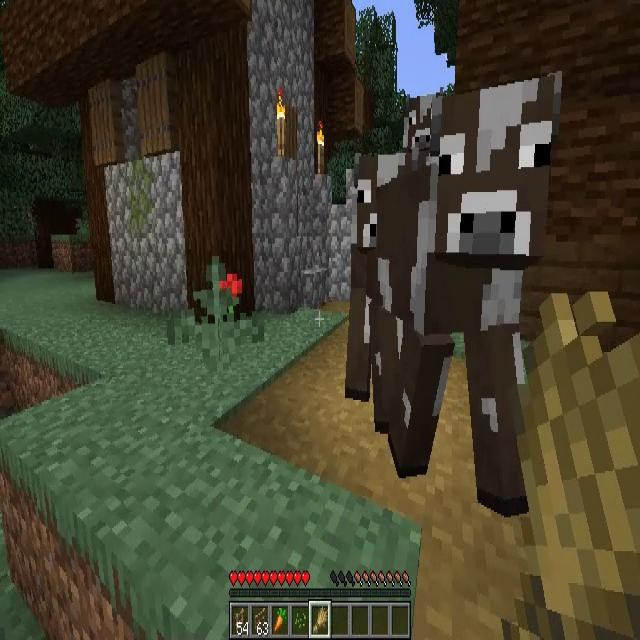cow: (395, 69, 555, 492), (346, 145, 415, 417), (402, 89, 444, 160)
